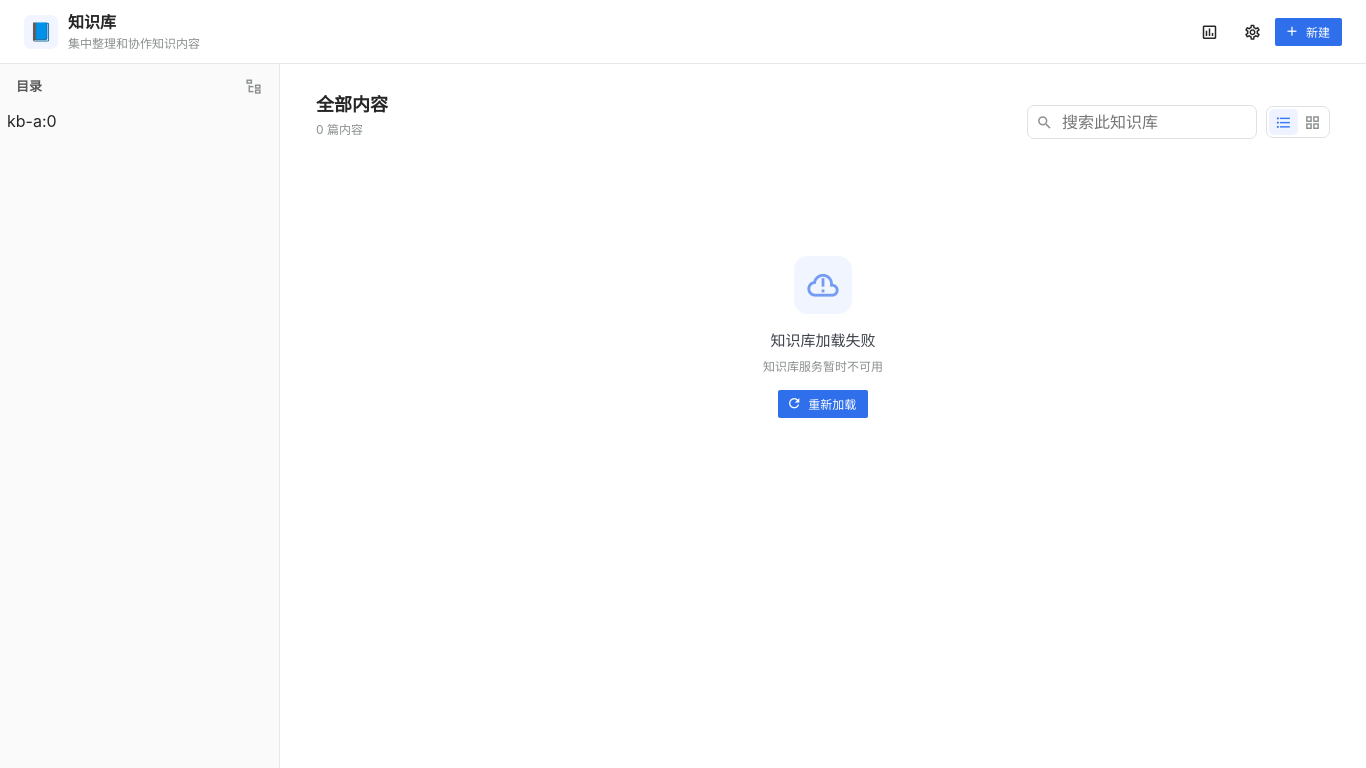
it: KnowledgeBaseView route safety › keeps a retryable failure state after the closable alert is dismissed
The image size is (1366, 768).
Expected: the message with class "content-load-error" shows "知识库服务暂时不可用", [763, 359, 883, 374]
Expected: the message with class "content-load-error" shows "知识库加载失败", [770, 331, 876, 350]
Step 1. Click the button "重新加载" → (823, 404), box [778, 390, 868, 418]
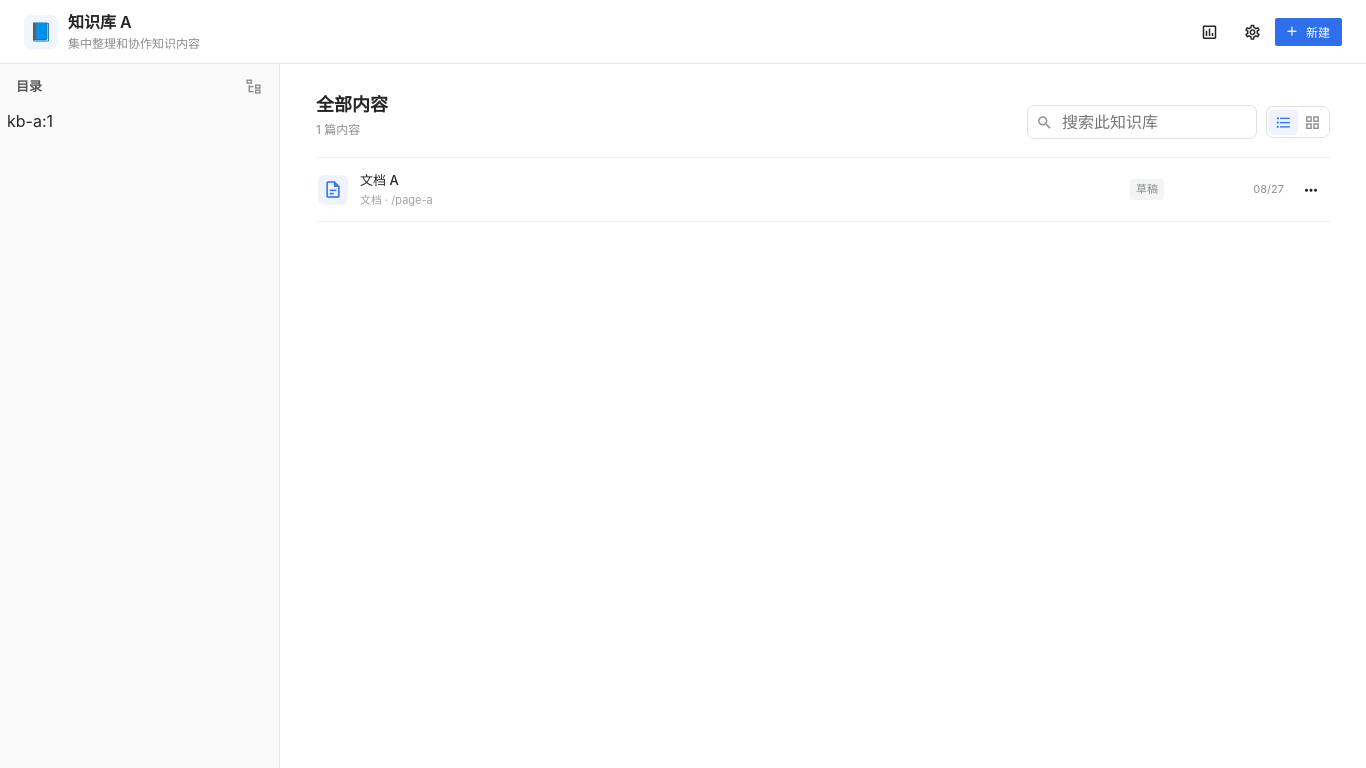
Now the text "知识库 A" is shown, box [68, 12, 132, 32]
Now the text "文档 A" is shown, box [360, 172, 399, 188]
